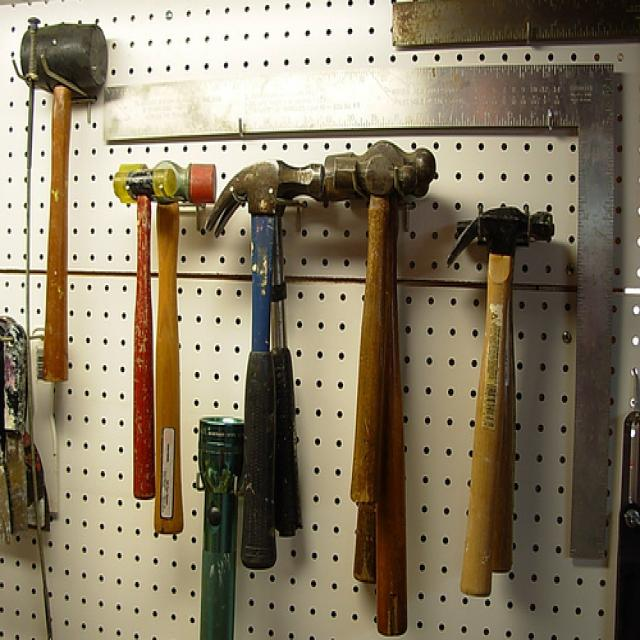hammer: (200, 157, 330, 571), (444, 205, 562, 604), (325, 145, 433, 510), (17, 22, 109, 384)
